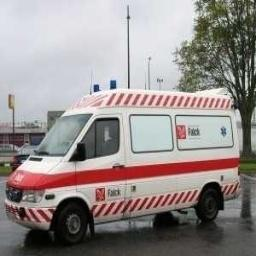Ambulance: (5, 89, 239, 243)
